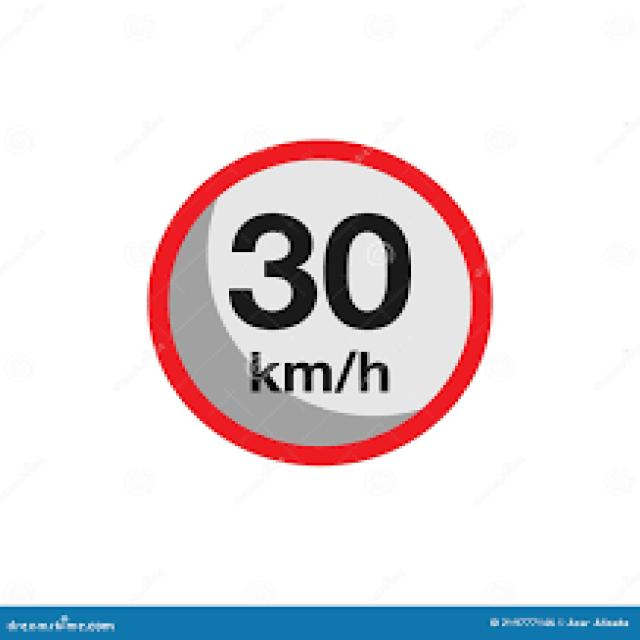Speed limit 30: (142, 134, 497, 469)
